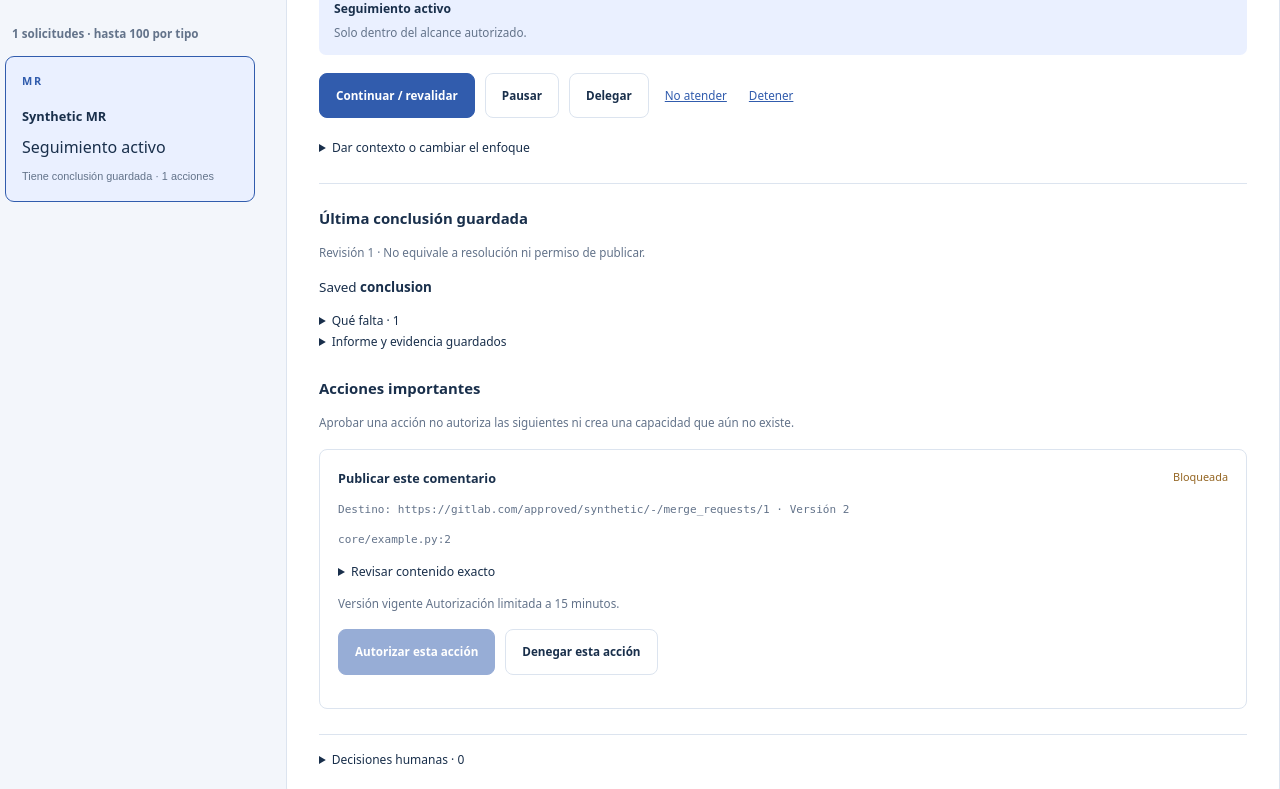
Test: Control humano común sin arrancar procesos › no deja aprobar una capacidad bloqueada aunque conserve su borrador
The image size is (1280, 789).
(page scrolled)
Expected: the button "Autorizar esta acción" is disabled, left=338, top=629, right=495, bottom=675
Click the heading "Revisar contenido exacto". click: (423, 571)
box: left=351, top=563, right=495, bottom=580
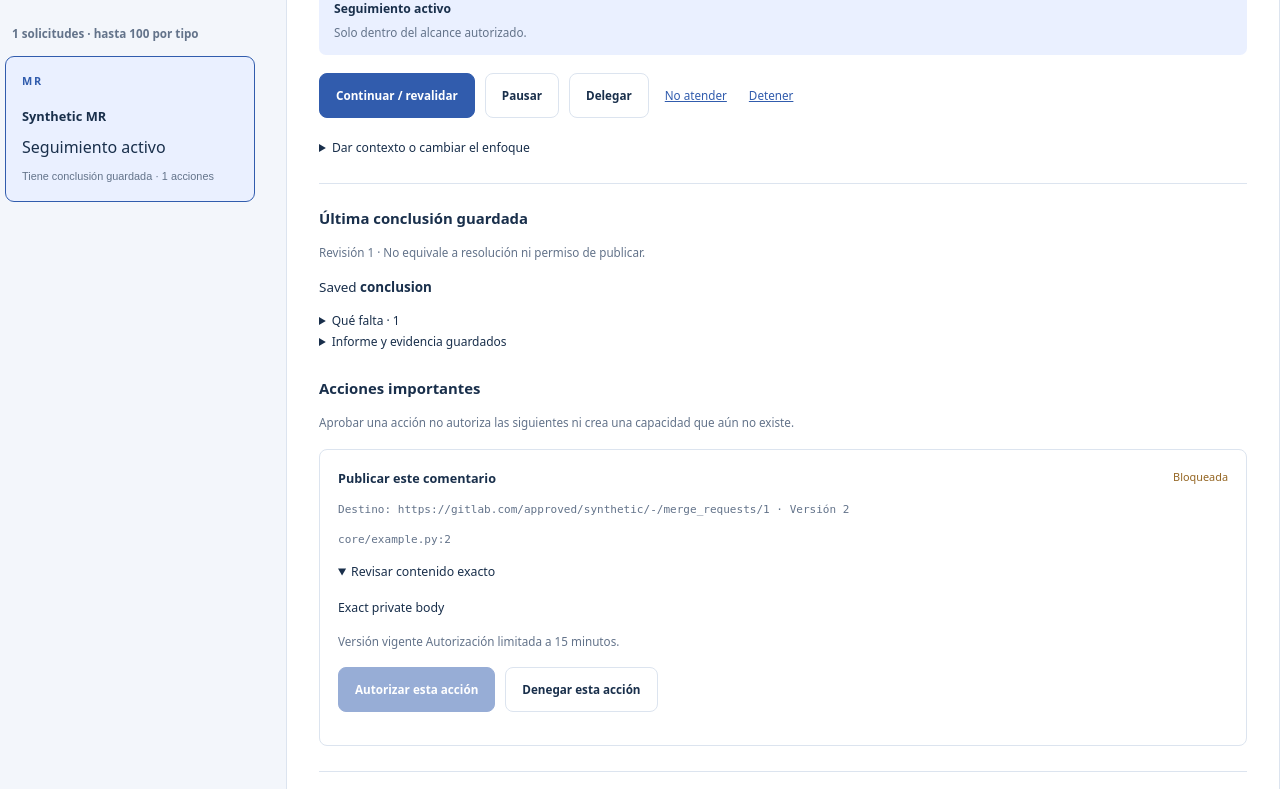
Result: the text "Exact private body" is shown at left=338, top=600, right=444, bottom=616
